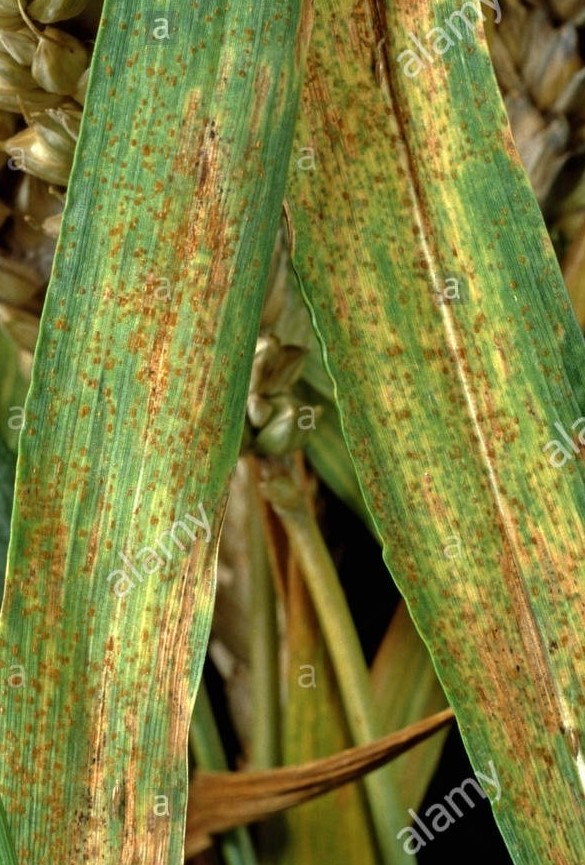Leaf Rust: (33, 49, 494, 490)
